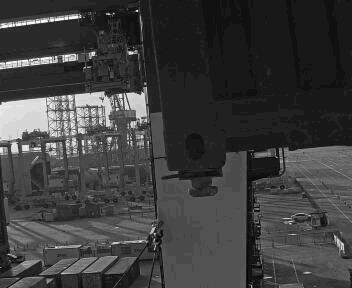twist_lock_1: (171, 163, 227, 202)
